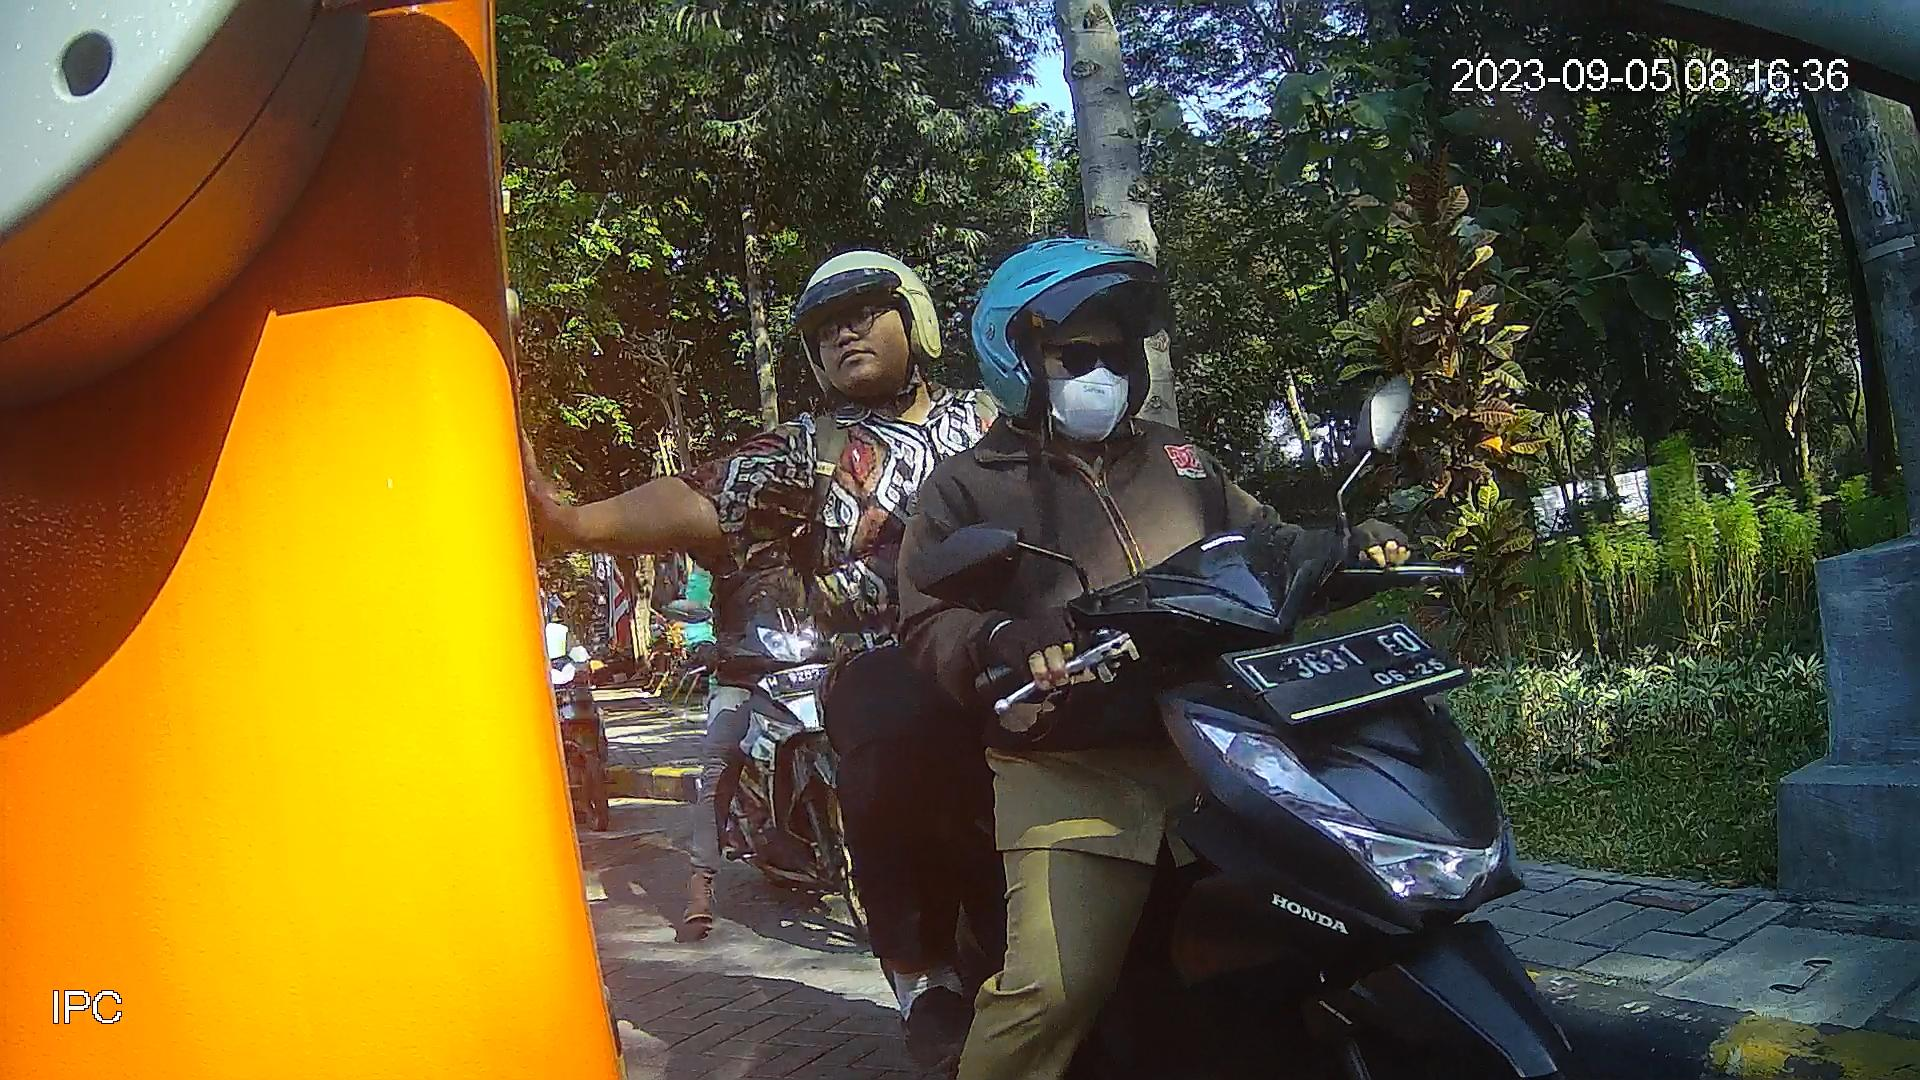plat: (1221, 621, 1473, 729)
